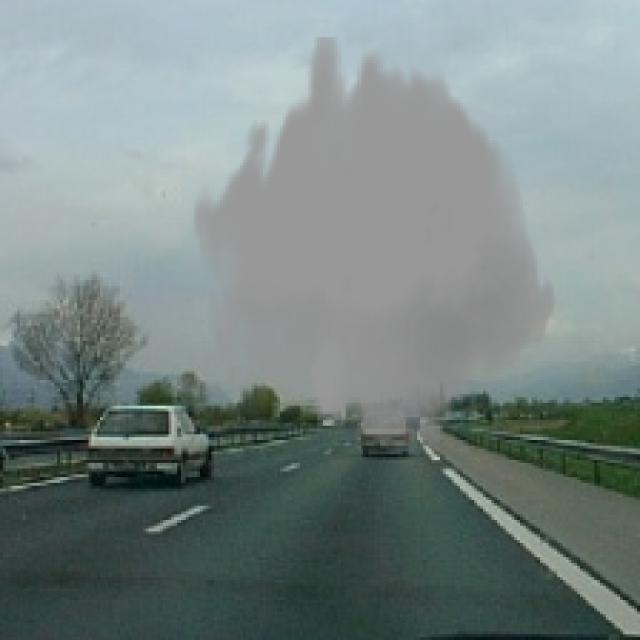smoke: (192, 37, 557, 452)
